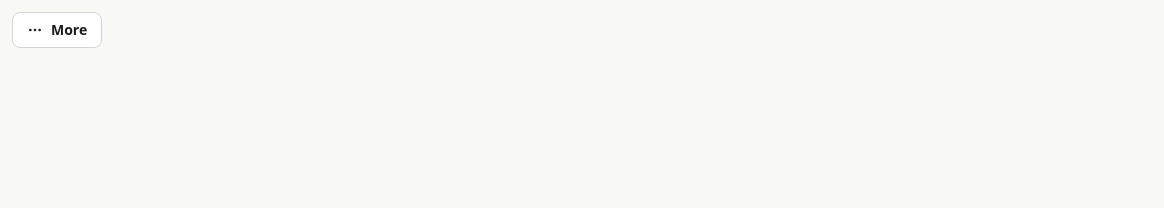
MoreMenu › is a labelled button that opens a menu, focuses the first item and lists destructive actions last
Step 1. Click the button with aria-label "More actions" → {"x": 57, "y": 30}, box [12,12,102,48]
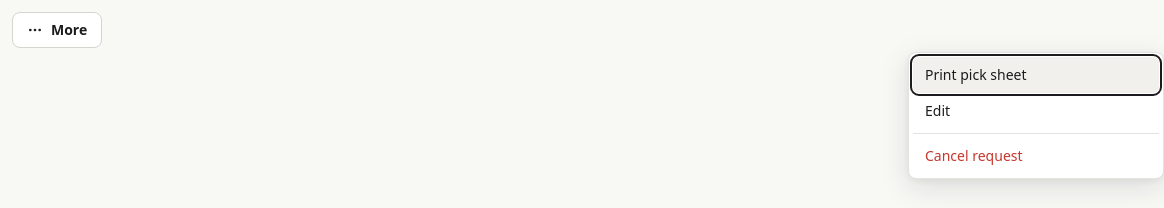
expect the menu items read "Print pick sheet", "Edit", "Cancel request", in this order: met, box [913,57,1159,93]; [913,93,1159,129]; [913,138,1159,174]
